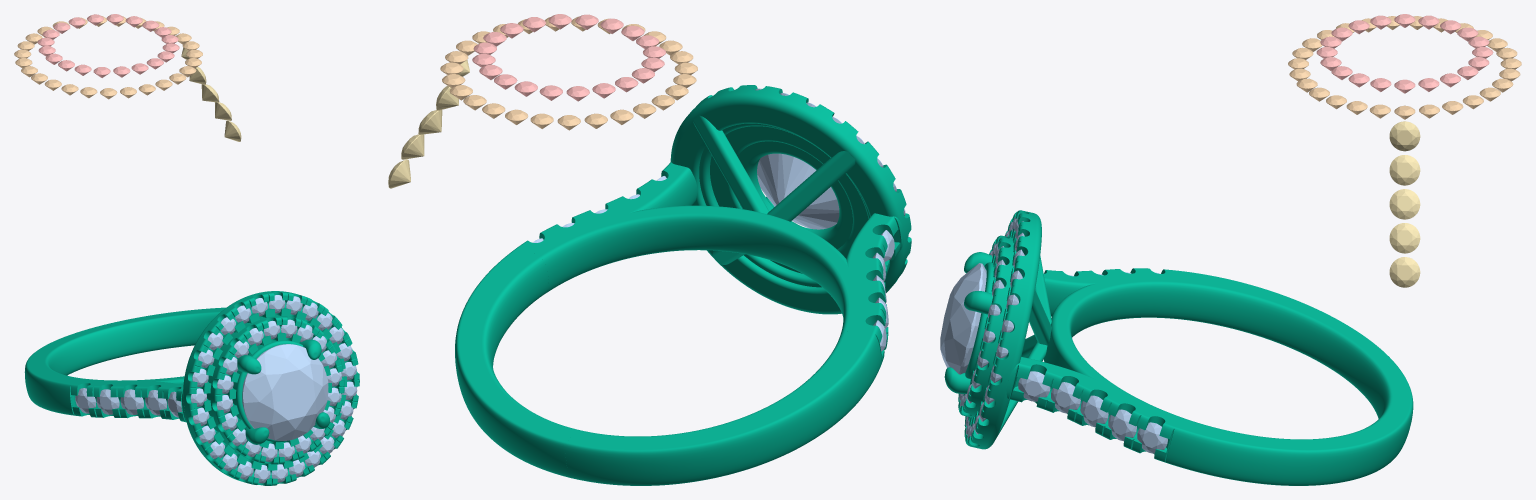
3 views of the same model, side by side, from view 1: azimuth 30°, elevation 25°; view 2: azimuth 150°, elevation 25°; view 3: azimuth 270°, elevation 25° (orthographic). The views are drawn at different scales.
Visible parts, largest first — view 1: JTC-8972(base).3dm, Diamond_Round (×4); view 2: JTC-8972(base).3dm, Diamond_Round; view 3: JTC-8972(base).3dm, Diamond_Round (×11).
Boxes of the visible parts, x1,y1,x2,y2 form: JTC-8972(base).3dm: (24,291,359,485); Diamond_Round (×4): (96,344,328,440); JTC-8972(base).3dm: (455,85,911,485); Diamond_Round: (757,153,839,229); JTC-8972(base).3dm: (944,210,1413,485); Diamond_Round (×11): (940,121,1420,453).
Bounding box in the file's own units: 2.39 × 2.6 × 3.52.
